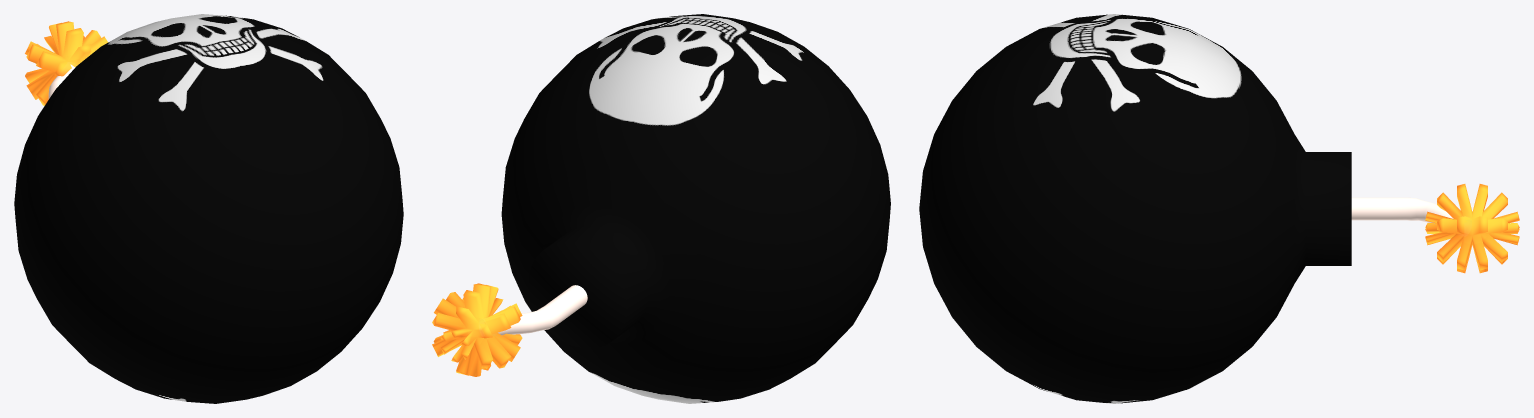
The model's file is bombe.fbx.
The picture shows the model from 3 angles, left to right: view 1: azimuth 30°, elevation 25°; view 2: azimuth 150°, elevation 25°; view 3: azimuth 270°, elevation 25°; orthographic projection.
Parts seen in each view (by area): view 1: Bombe; view 2: Bombe; view 3: Bombe.
Part boxes in pixels (x1,y1,x2,y2): Bombe: [14, 14, 403, 403]; Bombe: [432, 14, 890, 403]; Bombe: [919, 14, 1519, 403].
Bounding box in the file's own units: 2 × 2 × 3.08.
